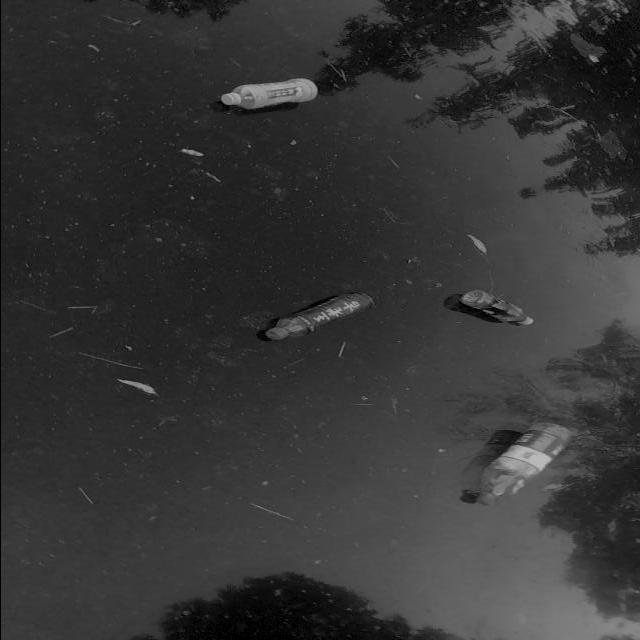bottle: (444, 404, 601, 524), (244, 274, 406, 368), (216, 73, 321, 120), (452, 285, 546, 335)
